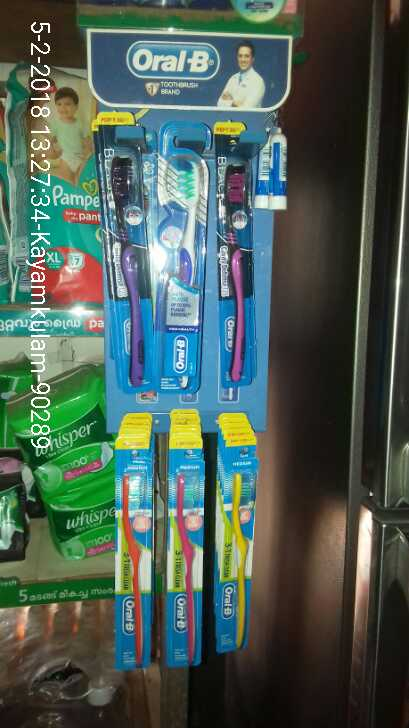pharmacy: (94, 111, 158, 389), (158, 121, 211, 391), (214, 125, 256, 389), (112, 437, 154, 665), (168, 431, 205, 665), (224, 435, 259, 653), (52, 477, 114, 556)
